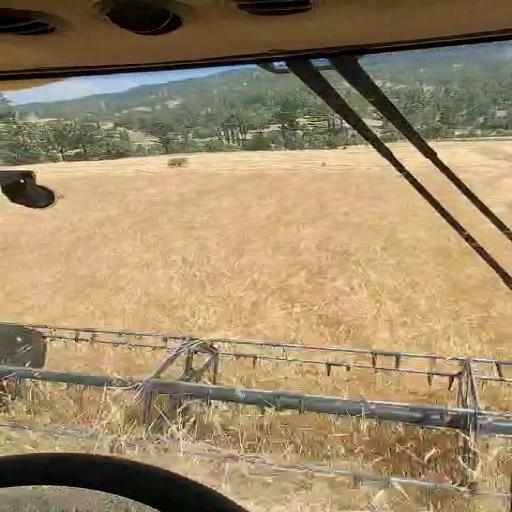bugday: (0, 132, 508, 476), (0, 0, 92, 89)
